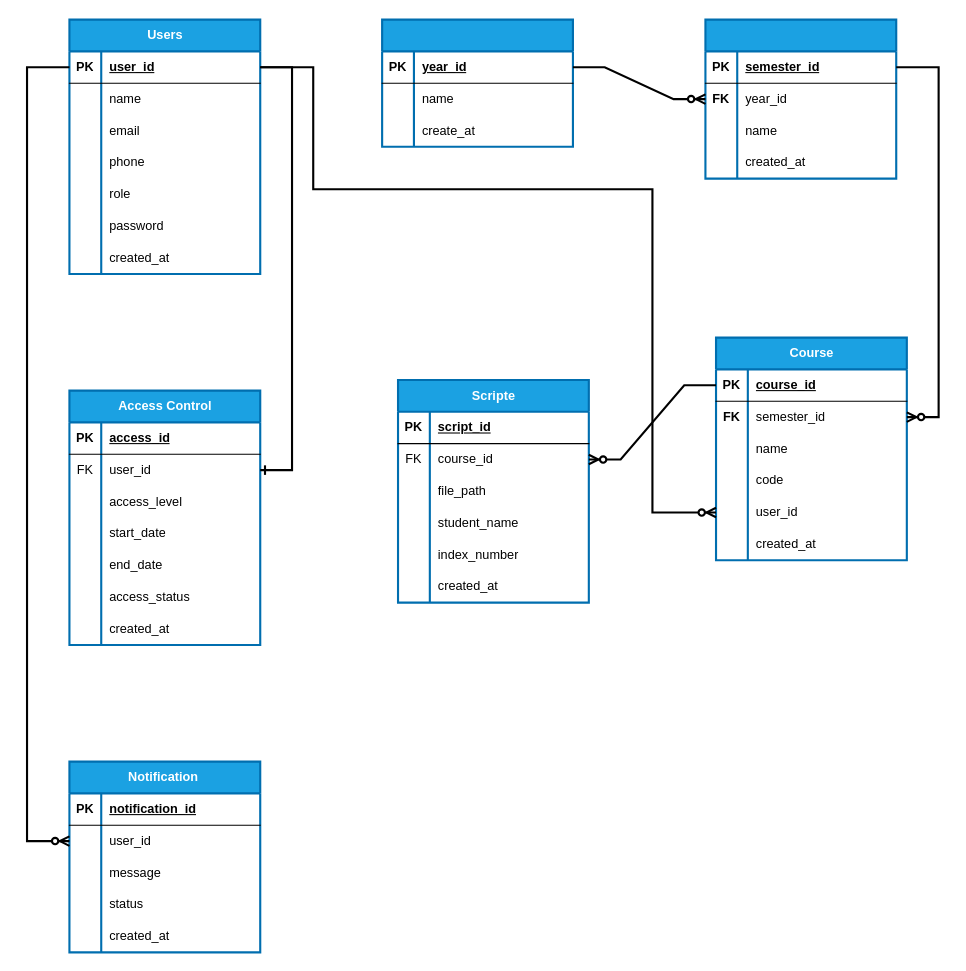
This 966x971 diagram has some shape labels left out. The shapes that lost their labels are listed below. From the top down, each one's box as (x1, y1, x2, y2) in pixels, then its label:
(381, 18, 573, 147): AcademicYear
(704, 18, 897, 179): Semesters
